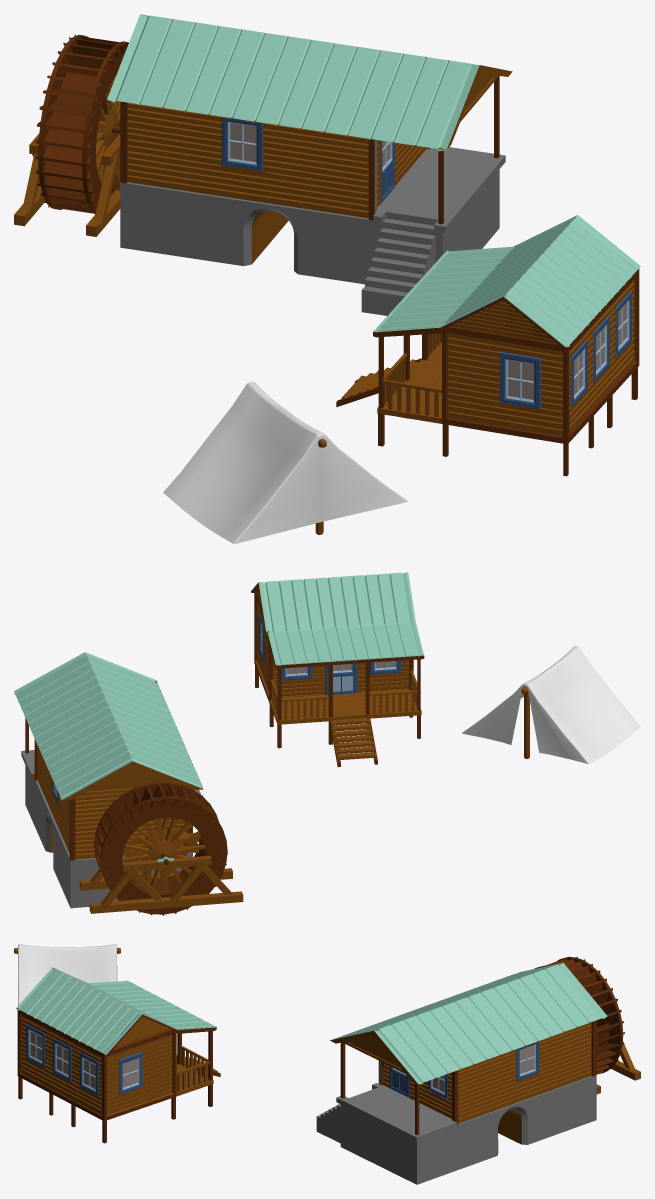
The model's file is tent1.fbx.
3 renders of one model, top to bottom at view 1: azimuth 30°, elevation 25°; view 2: azimuth 150°, elevation 25°; view 3: azimuth 270°, elevation 25°, orthographic. The views are drawn at different scales.
Visible parts, largest first — view 1: mill, Cabin, tent, wheel, wheel stand.001, wheel stand; view 2: mill, Cabin, wheel, tent, wheel stand, wheel stand.001; view 3: mill, Cabin, tent, wheel, wheel stand.
Boxes of the visible parts, <box> form: mill: <box>107,14,512,315</box>; Cabin: <box>336,215,640,476</box>; tent: <box>163,382,407,543</box>; wheel: <box>35,34,128,214</box>; wheel stand.001: <box>86,133,120,236</box>; wheel stand: <box>14,133,44,226</box>; mill: <box>14,652,203,908</box>; Cabin: <box>251,572,424,767</box>; wheel: <box>93,781,227,915</box>; tent: <box>462,646,640,764</box>; wheel stand: <box>89,855,243,913</box>; wheel stand.001: <box>79,833,232,890</box>; mill: <box>316,962,607,1184</box>; Cabin: <box>16,967,220,1143</box>; tent: <box>18,944,117,1005</box>; wheel: <box>534,956,624,1074</box>; wheel stand: <box>611,1041,640,1080</box>.
Size of what is drawn, in the model's own units: 2918 by 972 by 4034.
